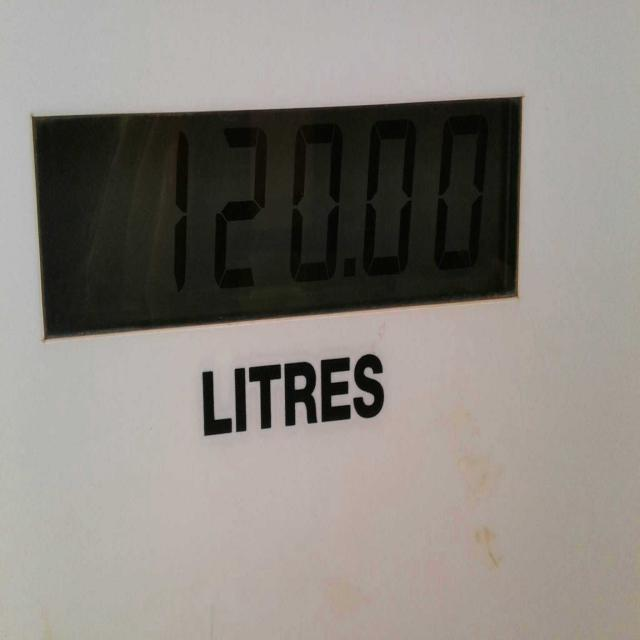.: (341, 255, 359, 278)
0: (286, 119, 346, 297), (359, 116, 422, 282), (435, 116, 493, 280)
1: (166, 122, 197, 299)
2: (209, 123, 271, 297)
screen: (32, 97, 524, 317)
